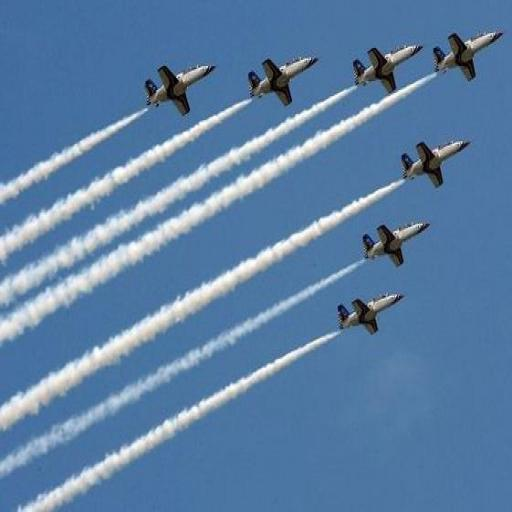aircraft: (142, 54, 218, 119), (247, 45, 318, 110), (434, 21, 506, 84), (400, 132, 472, 194), (350, 36, 424, 93), (360, 219, 432, 270), (335, 288, 404, 340)
